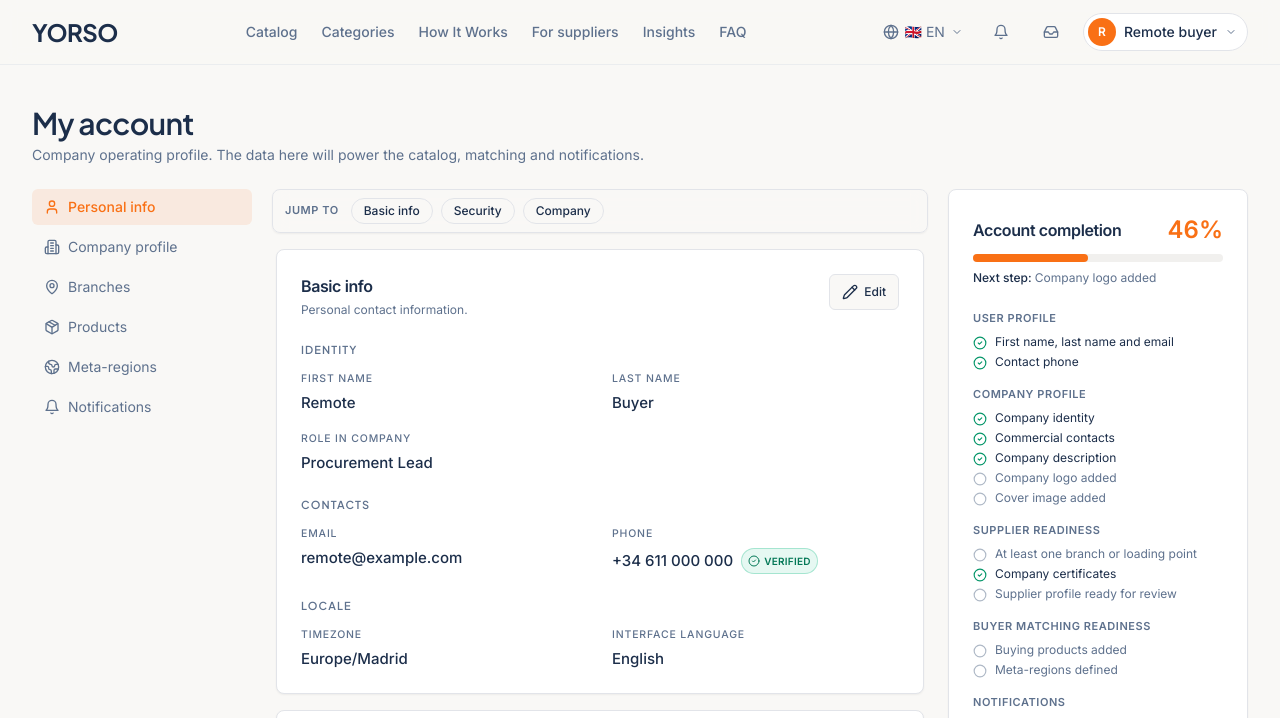
Test case: Account editability › self-hosted account mode shows a reloadable conflict state when account data is stale
This screenshot has width=1280, height=718.
Click the button with test id "account-card-personal-basic-edit" at point(864, 292), box top-left (829, 274), bottom-right (899, 310)
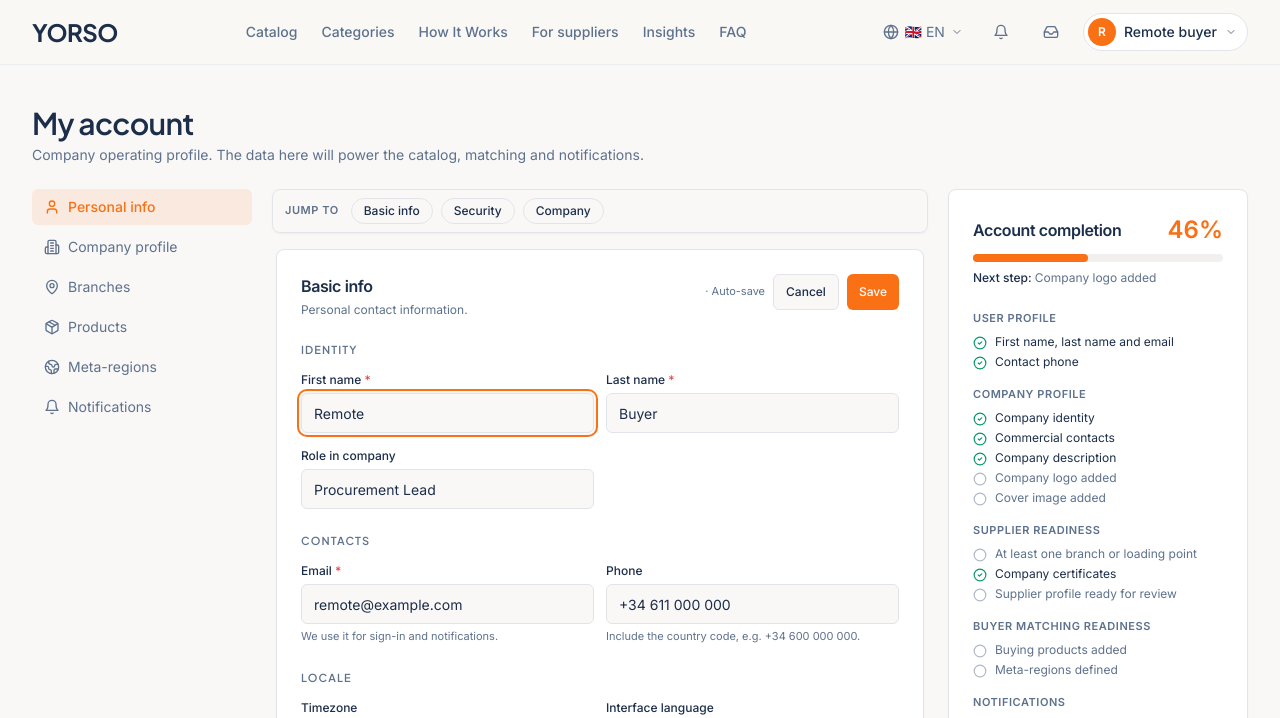
Replace the text in the field with test id "account-input-firstName" with "Stale" at point(448, 413), box top-left (301, 393), bottom-right (594, 433)
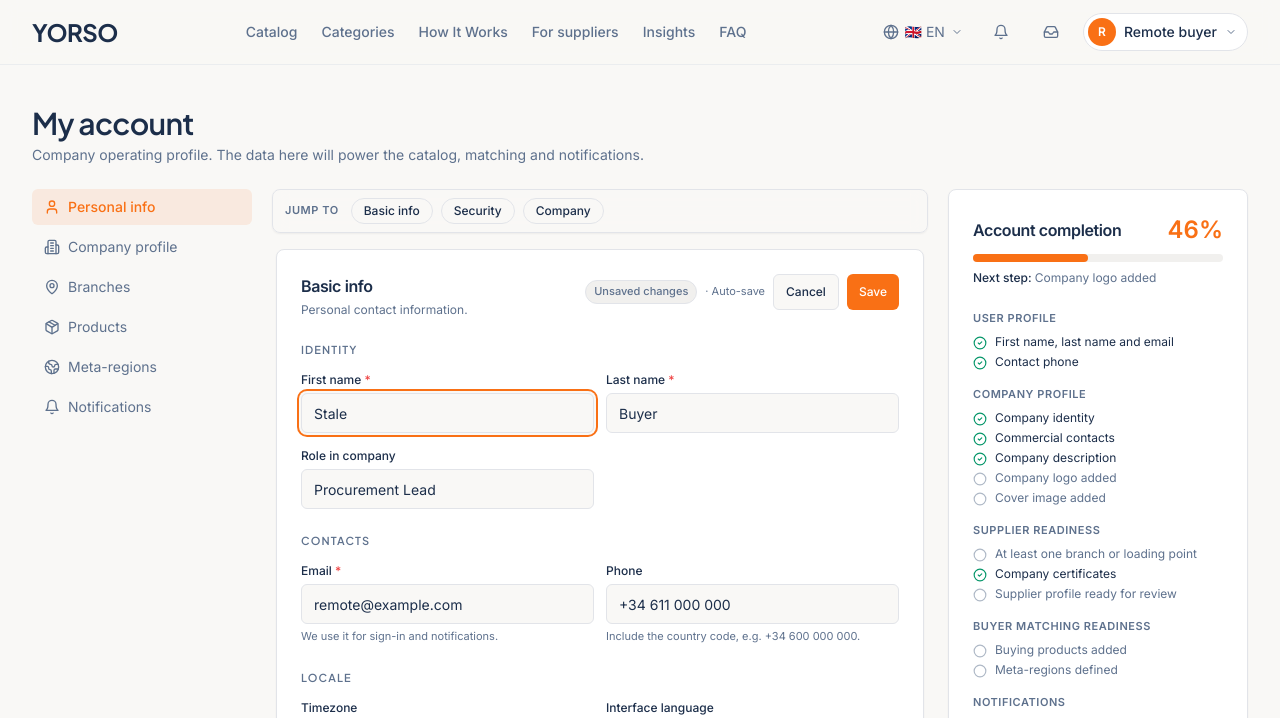
Click the button with test id "account-card-personal-basic-save" at point(873, 292), box top-left (847, 274), bottom-right (899, 310)
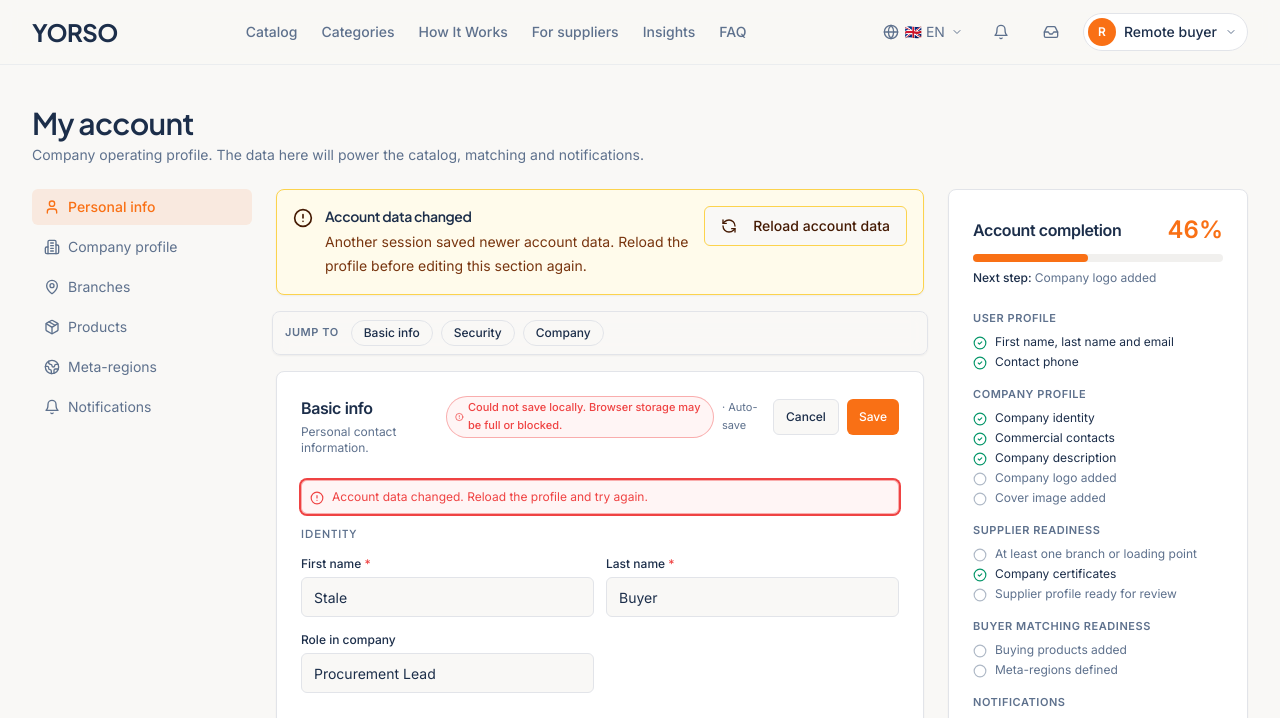
Result: the message with test id "account-save-conflict" is shown at top-left (276, 189), bottom-right (924, 295)
Result: the text "Account data changed. Reload the profile and try again." is shown at top-left (332, 489), bottom-right (648, 505)
Click the button with test id "account-save-conflict-reload" at point(806, 226), box top-left (704, 206), bottom-right (907, 246)
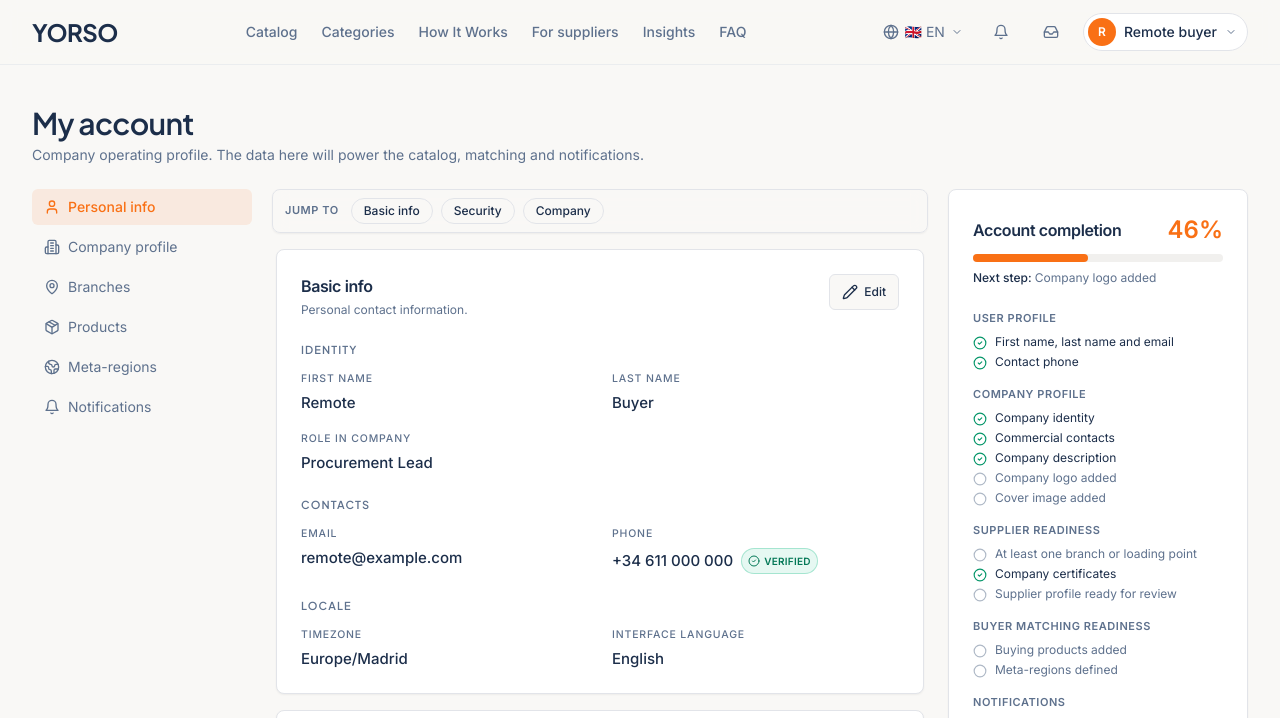
Result: the message with test id "account-save-conflict" is gone
